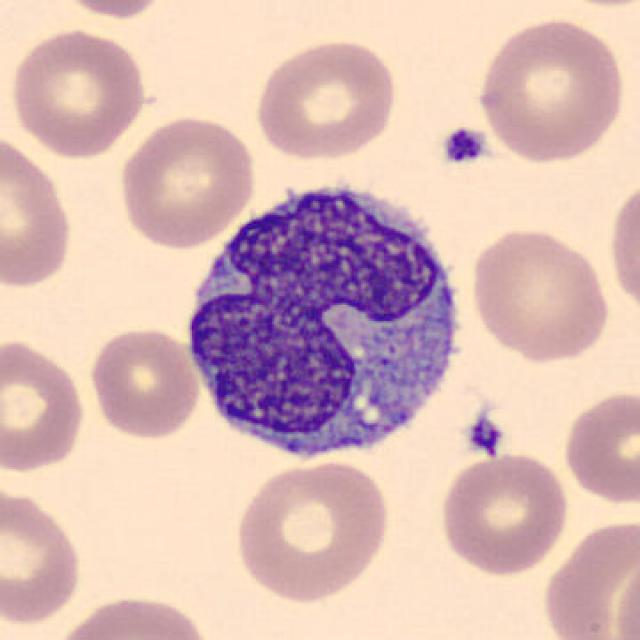Monocyte: (176, 166, 476, 476)
Platelets: (437, 124, 489, 170), (464, 413, 507, 460)
RBC: (229, 456, 393, 606), (471, 12, 629, 166), (466, 224, 613, 365), (116, 111, 260, 252), (5, 24, 151, 160), (250, 35, 402, 162), (436, 449, 572, 576), (85, 324, 203, 442), (537, 513, 640, 640), (0, 333, 89, 476), (0, 483, 87, 628), (0, 129, 76, 291), (558, 386, 638, 508), (48, 590, 217, 640), (604, 174, 640, 321), (46, 0, 178, 21), (611, 555, 640, 639), (538, 0, 640, 14)
